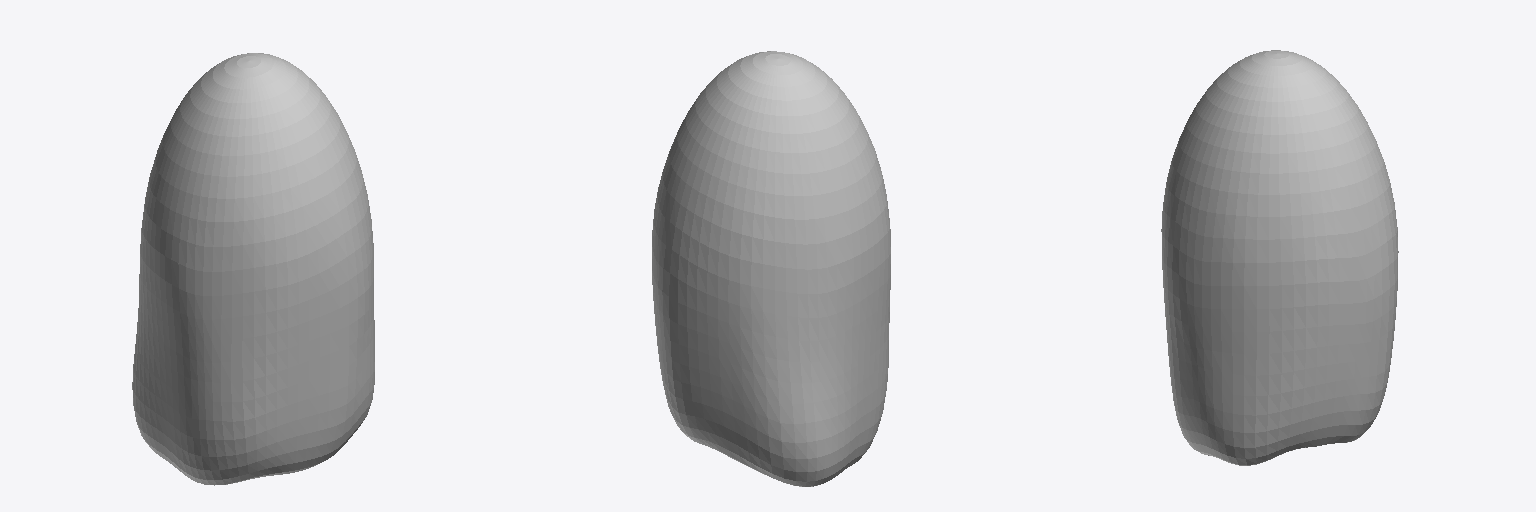
File: Creeper.obj
The picture shows the model from 3 angles: view 1: azimuth 30°, elevation 25°; view 2: azimuth 150°, elevation 25°; view 3: azimuth 270°, elevation 25°; orthographic projection.
Parts seen in each view (by area): view 1: Sphere; view 2: Sphere; view 3: Sphere.
Boxes of the visible parts, box(x1,y1,x2,y2) form: Sphere: box(132, 53, 374, 485); Sphere: box(652, 51, 890, 486); Sphere: box(1161, 50, 1398, 465).
Size of the model in its own units: 0.9465 by 1.77 by 0.959.